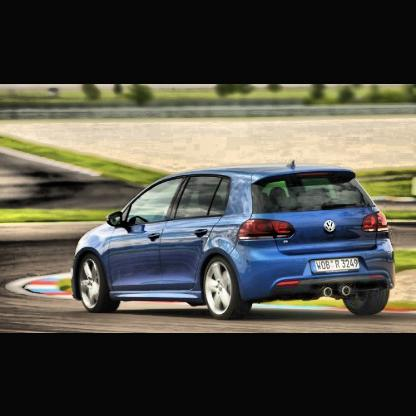Volkswagen Golf Hatchback 2012: (69, 159, 400, 325)
